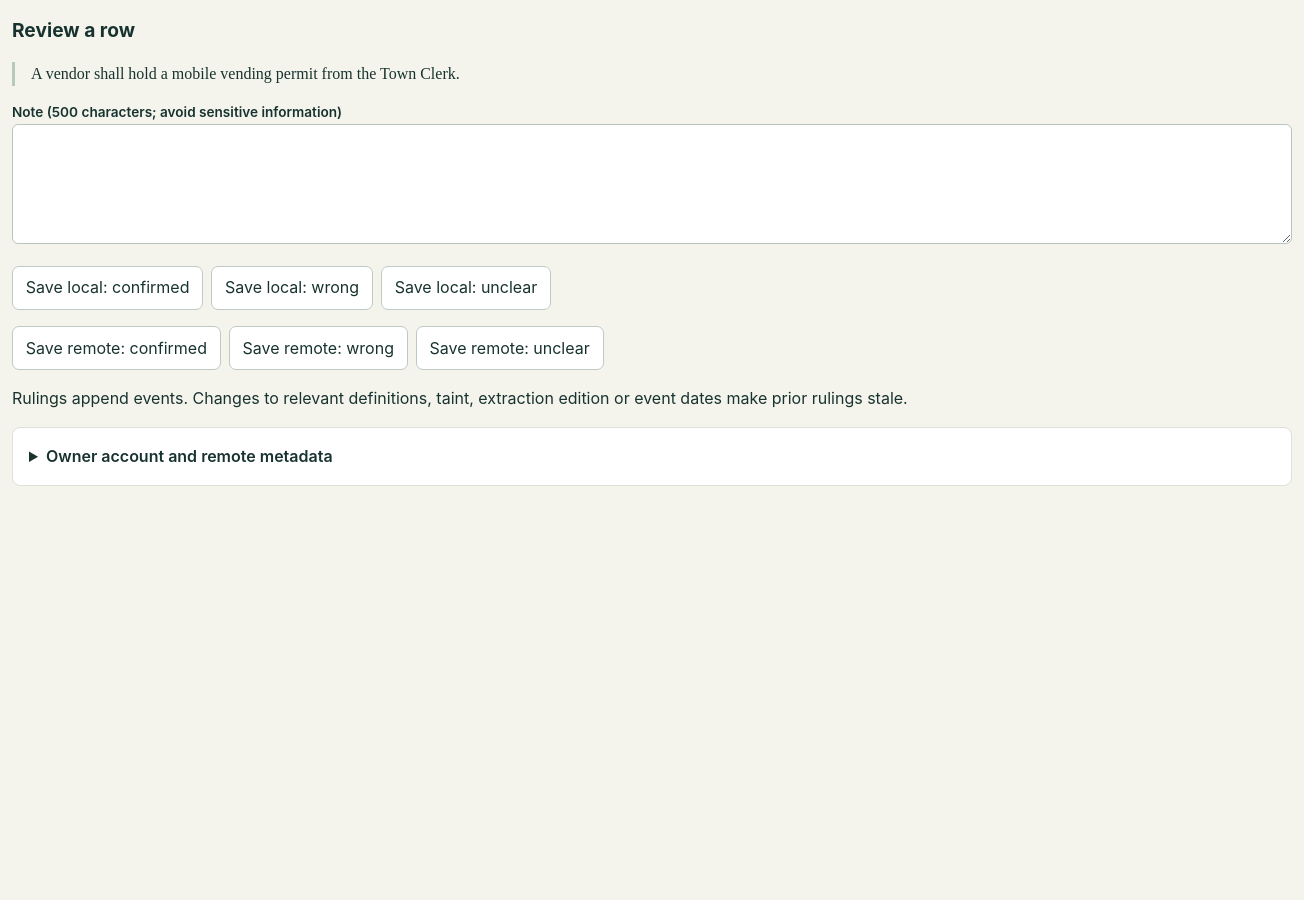
remote ruling snapshots (authored, not executed) › REMOTE-REFRESH-FAIL: successful save plus failed reload never leaves a stale verdict displayed
Click the heading "Owner account and remote metadata". click: (189, 456)
box: [46,446,333,466]
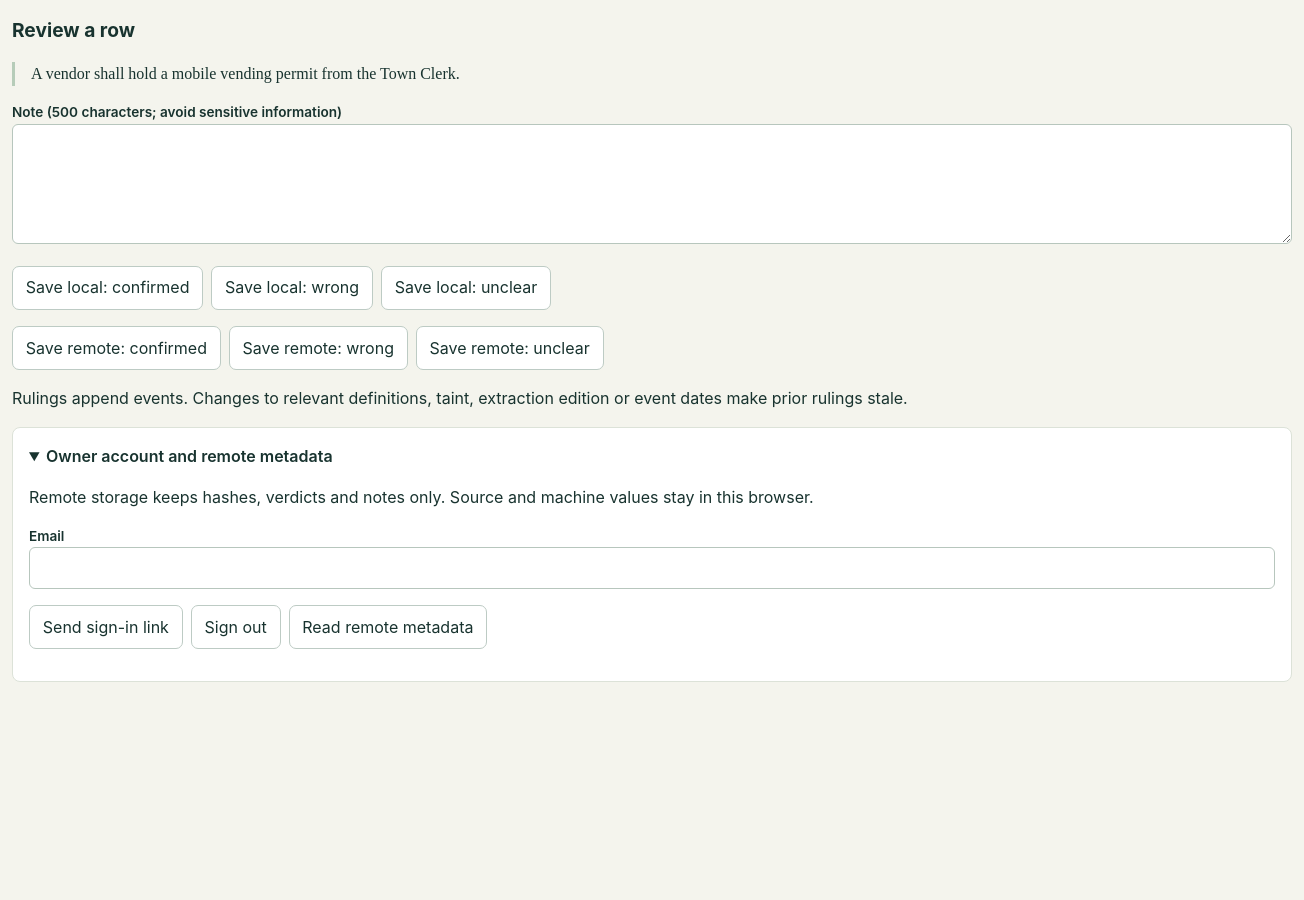
Click the button "Read remote metadata". click: (388, 627)
box: [288,605,487,650]
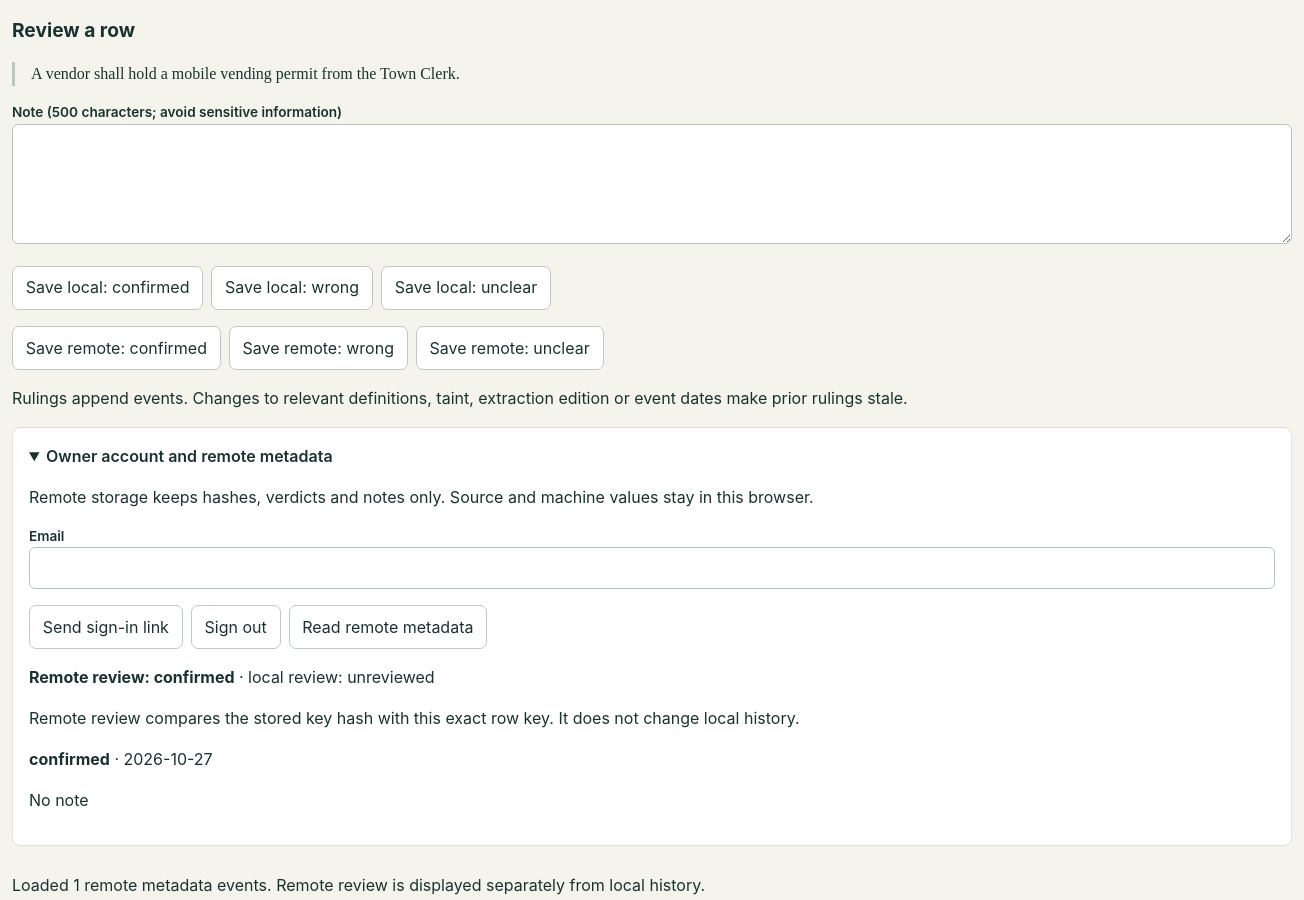
Expected: the text "Remote review: confirmed" is shown, [29,668,234,688]
Click the button "Save remote: wrong". click: (318, 348)
box: [229,326,408,370]
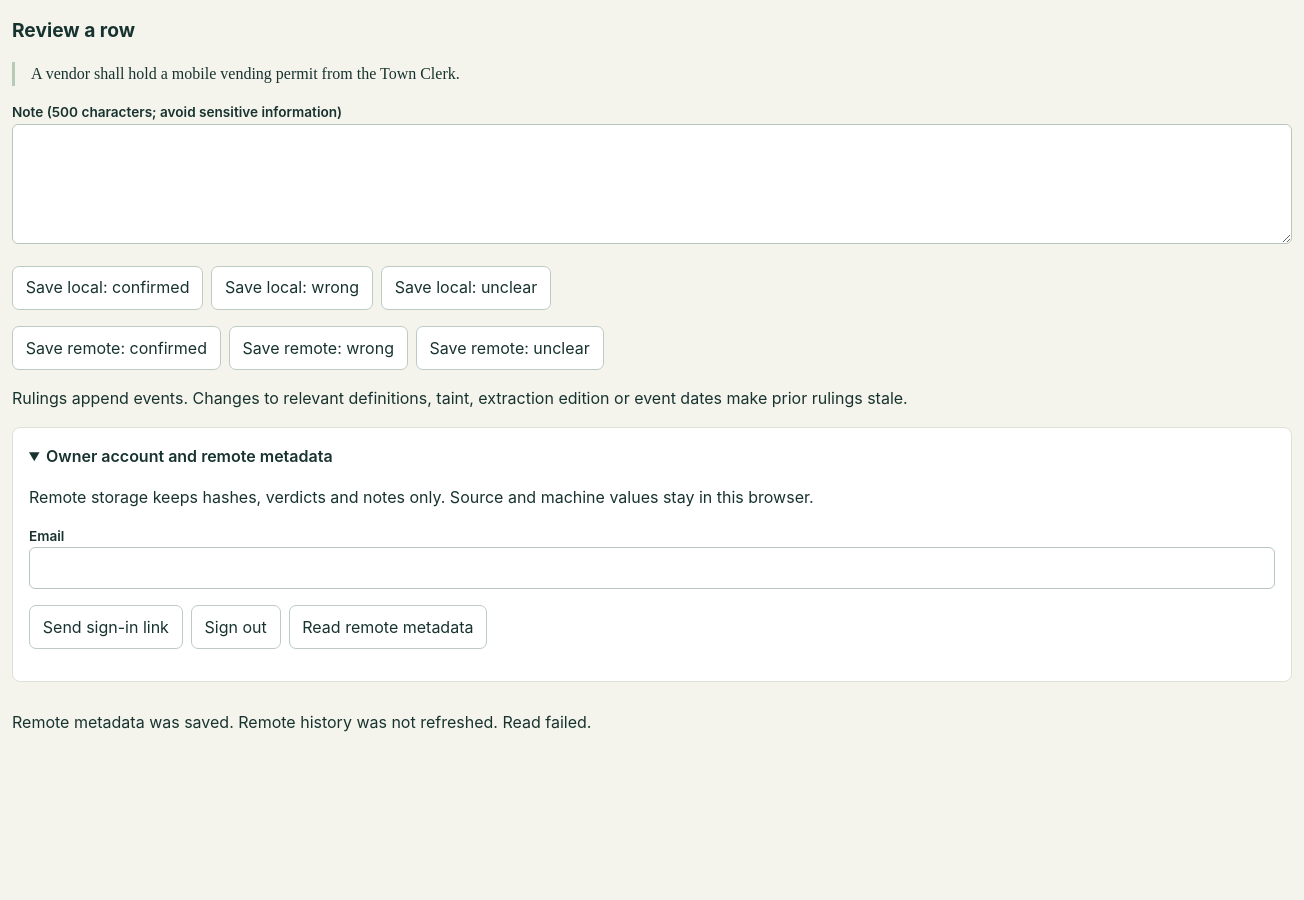
Expected: the message shows "Remote metadata was saved. Remote history was not refreshed.", [12,712,591,732]
Expected: the text "Remote review: confirmed" is gone
